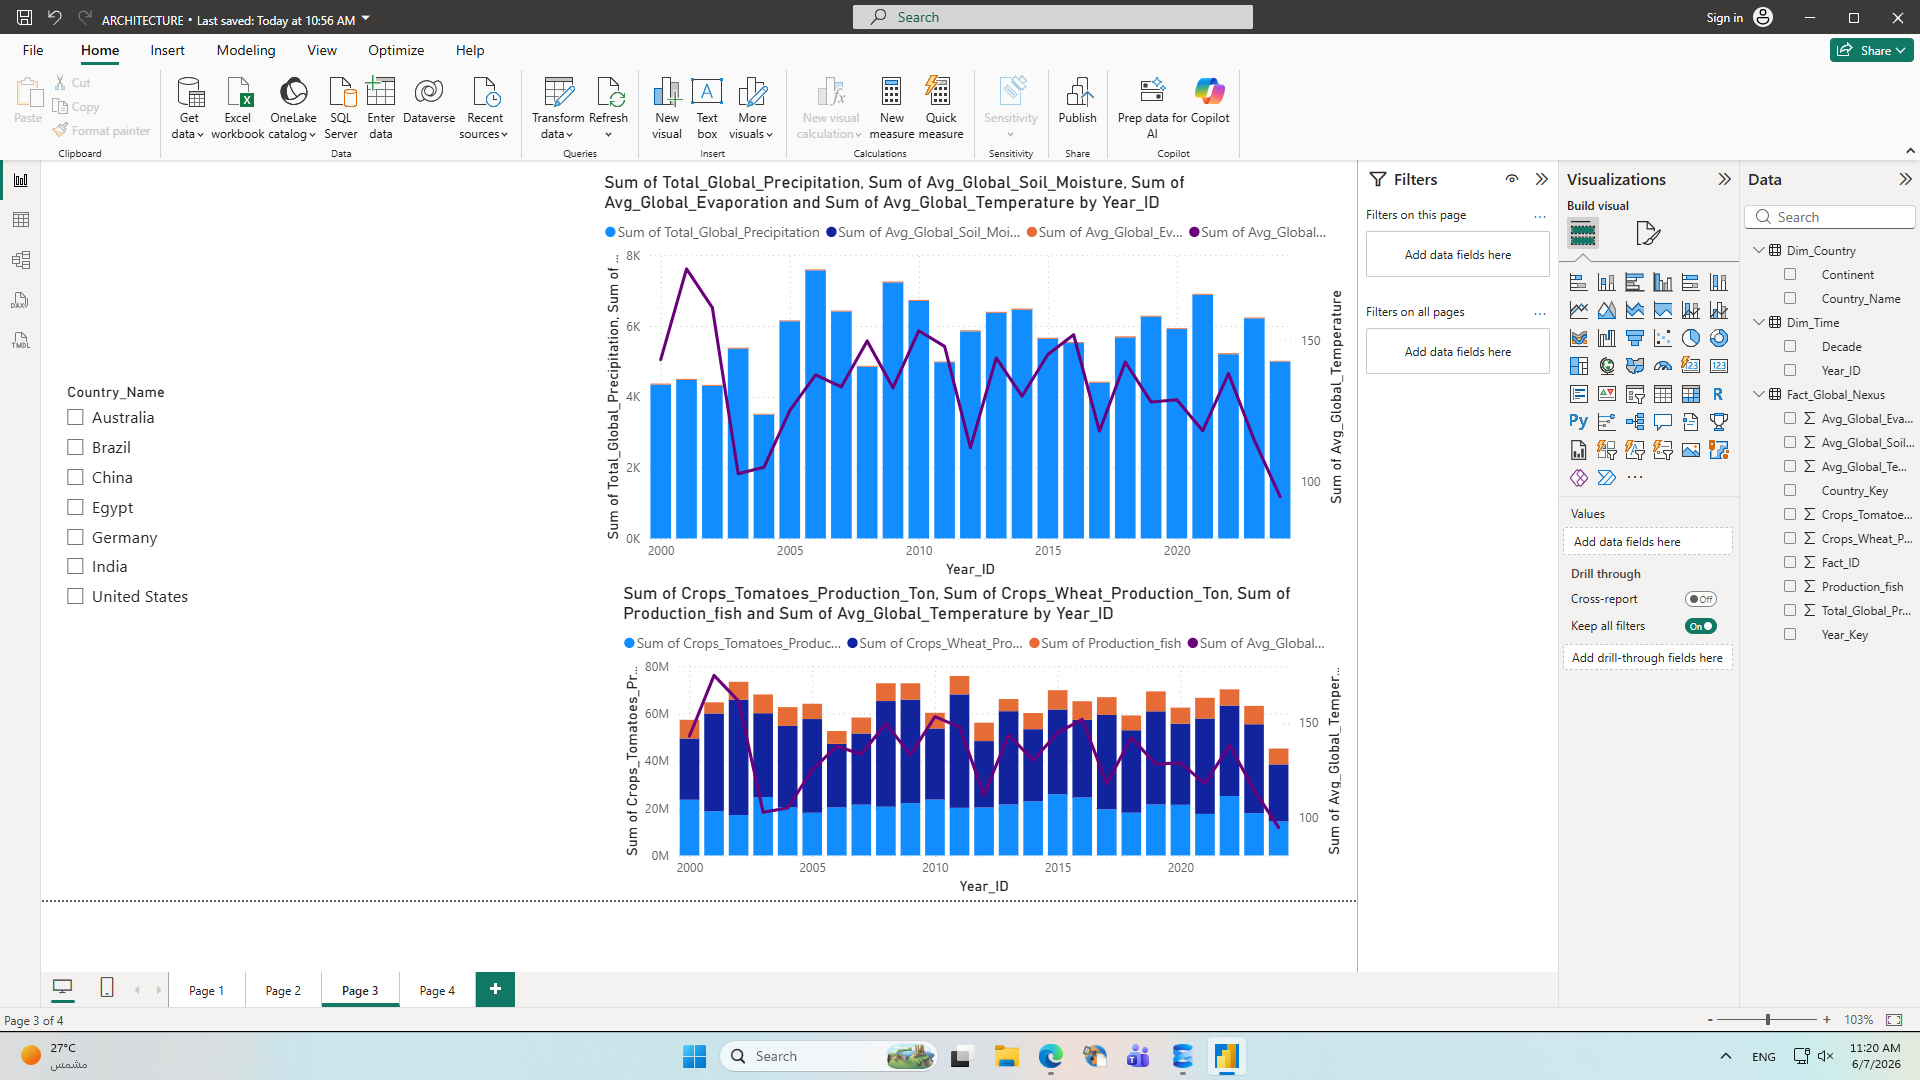

The dashboard page shown, as its layout file describes it:
{"tool":"powerbi","page":{"name":"Page 3","canvas":[1280,720],"ordinal":2},"visuals":[{"type":"lineStackedColumnComboChart","fields":{"Category":["Dim_Time.Year_ID"],"Y":["Sum(Fact_Global_Nexus.Total_Global_Precipitation)","Sum(Fact_Global_Nexus.Avg_Global_Soil_Moisture)","Sum(Fact_Global_Nexus.Avg_Global_Evaporation)"],"Y2":["Sum(Fact_Global_Nexus.Avg_Global_Temperature)"]},"box":[542.7,11.7,728.5,399.8],"z":0},{"type":"slicer","fields":{"Values":["Dim_Country.Country_Name"]},"box":[12.6,212,518.4,273.3],"z":1000},{"type":"lineStackedColumnComboChart","fields":{"Category":["Dim_Time.Year_ID"],"Y":["Sum(Fact_Global_Nexus.Crops_Tomatoes_Production_Ton)","Sum(Fact_Global_Nexus.Crops_Wheat_Production_Ton)","Sum(Fact_Global_Nexus.Production_MT)"],"Y2":["Sum(Fact_Global_Nexus.Avg_Global_Temperature)"]},"box":[561.2,411.4,708.1,308.3],"z":2000}]}

Visuals, with their boxes on the page's 1280x720 design canvas (x1, y1, x2, y2). These are canvas units, not pixel positions in the 1920x1080 screenshot, which may show the page scaled, cropped or inside an application window:
lineStackedColumnComboChart - Dim_Time.Year_ID x Sum(Fact_Global_Nexus.Total_Global_Precipitation): (543, 12, 1271, 412)
slicer - Dim_Country.Country_Name: (13, 212, 531, 485)
lineStackedColumnComboChart - Dim_Time.Year_ID x Sum(Fact_Global_Nexus.Crops_Tomatoes_Production_Ton): (561, 411, 1269, 720)
